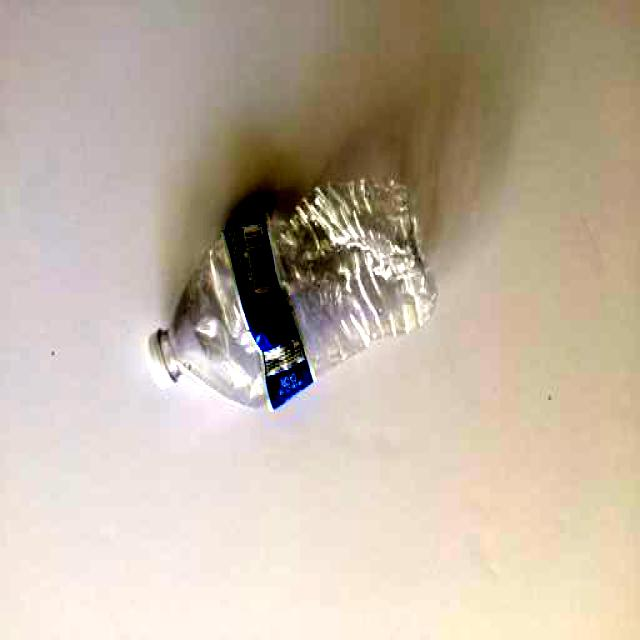plastic: (138, 171, 445, 419)
